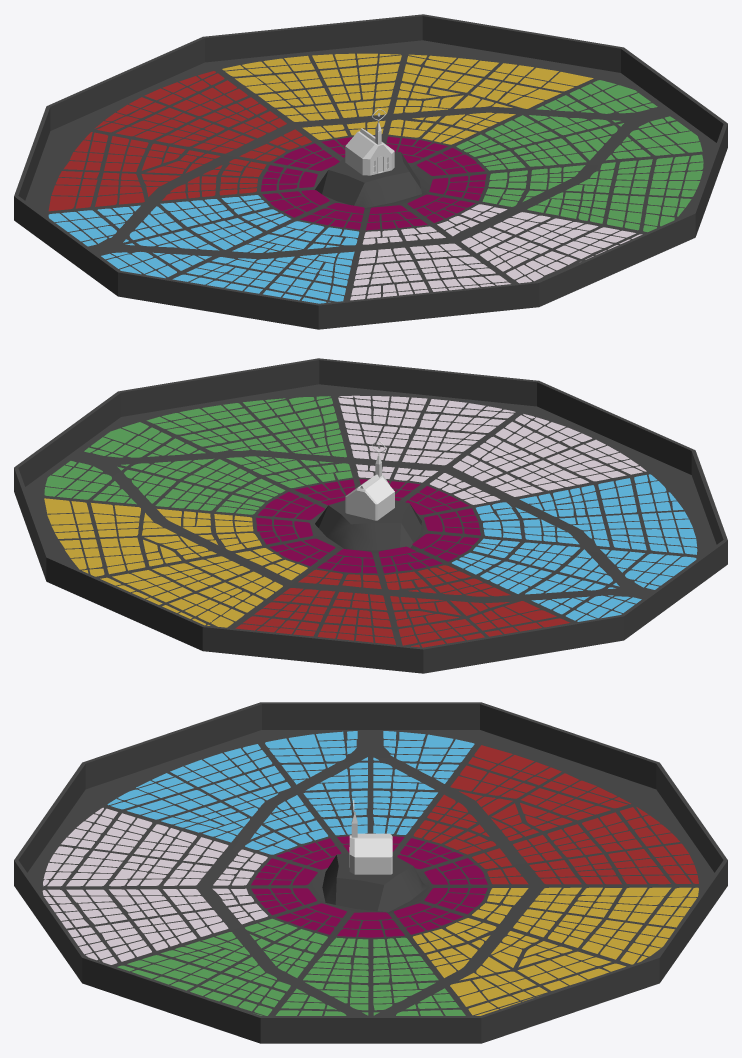
File: mapa por distritos 1.fbx
3 renders of one model, top to bottom at view 1: azimuth 30°, elevation 25°; view 2: azimuth 150°, elevation 25°; view 3: azimuth 270°, elevation 25°, orthographic. The views are drawn at different scales.
Visible parts, largest first — view 1: Cylinder.004, Curve.025, Curve.020, Curve.004, Curve.026, Curve.005, Curve.010, Curve.011, Curve.035, Curve.023, Curve.027, Curve.007 (+27 smaller); view 2: Cylinder.004, Curve.025, Curve.036, Curve.020, Curve.012, Curve.001, Curve.010, Curve.011, Curve.035, Curve.023, Curve.027, Curve.005 (+27 smaller); view 3: Cylinder.004, Curve.036, Curve.026, Curve.004, Curve.005, Curve.012, Curve.025, Curve.001, Curve.010, Curve.011, Curve.035, Curve.027 (+27 smaller).
Boxes of the visible parts, <box> form: Cylinder.004: <box>14,14,727,329</box>; Curve.025: <box>402,54,593,108</box>; Curve.020: <box>607,154,703,232</box>; Curve.004: <box>222,53,401,93</box>; Curve.026: <box>94,71,247,139</box>; Curve.005: <box>300,174,486,230</box>; Curve.010: <box>353,243,495,285</box>; Curve.011: <box>461,212,598,271</box>; Curve.035: <box>160,195,290,249</box>; Curve.023: <box>258,82,394,121</box>; Curve.027: <box>156,97,286,153</box>; Curve.007: <box>261,143,339,217</box>; Cylinder.004: <box>14,358,727,673</box>; Curve.025: <box>44,498,145,576</box>; Curve.036: <box>598,474,697,554</box>; Curve.020: <box>146,396,337,446</box>; Curve.012: <box>495,414,646,481</box>; Curve.001: <box>338,395,515,432</box>; Curve.010: <box>453,436,588,496</box>; Curve.011: <box>345,422,485,465</box>; Curve.035: <box>452,538,579,593</box>; Curve.023: <box>152,556,282,612</box>; Curve.027: <box>254,588,391,627</box>; Curve.005: <box>294,479,480,535</box>; Cylinder.004: <box>14,702,727,1043</box>; Curve.036: <box>107,744,284,819</box>; Curve.026: <box>582,807,698,884</box>; Curve.004: <box>582,887,698,964</box>; Curve.005: <box>251,838,346,934</box>; Curve.012: <box>43,807,152,886</box>; Curve.025: <box>450,951,625,1015</box>; Curve.001: <box>42,889,151,964</box>; Curve.010: <box>109,824,228,886</box>; Curve.011: <box>109,889,228,950</box>; Curve.035: <box>303,790,437,835</box>; Curve.027: <box>513,824,621,884</box>.
Size of the model in its own units: 516 by 85.89 by 493.
